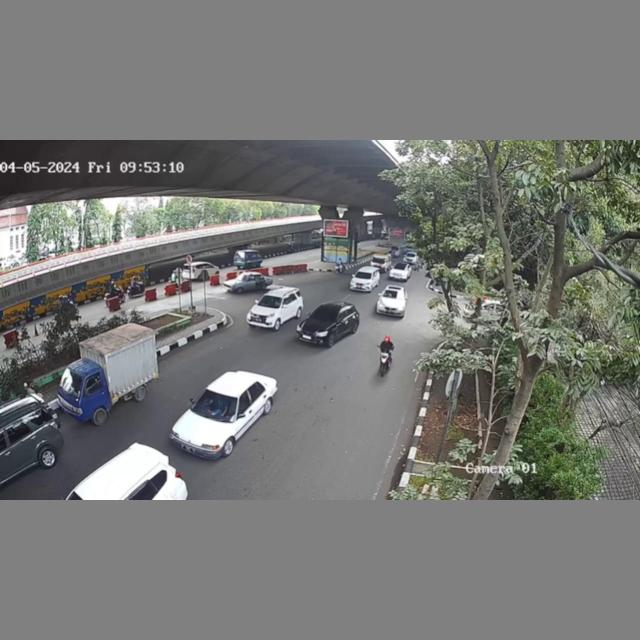windshield: (193, 388, 237, 422), (255, 294, 282, 307)
